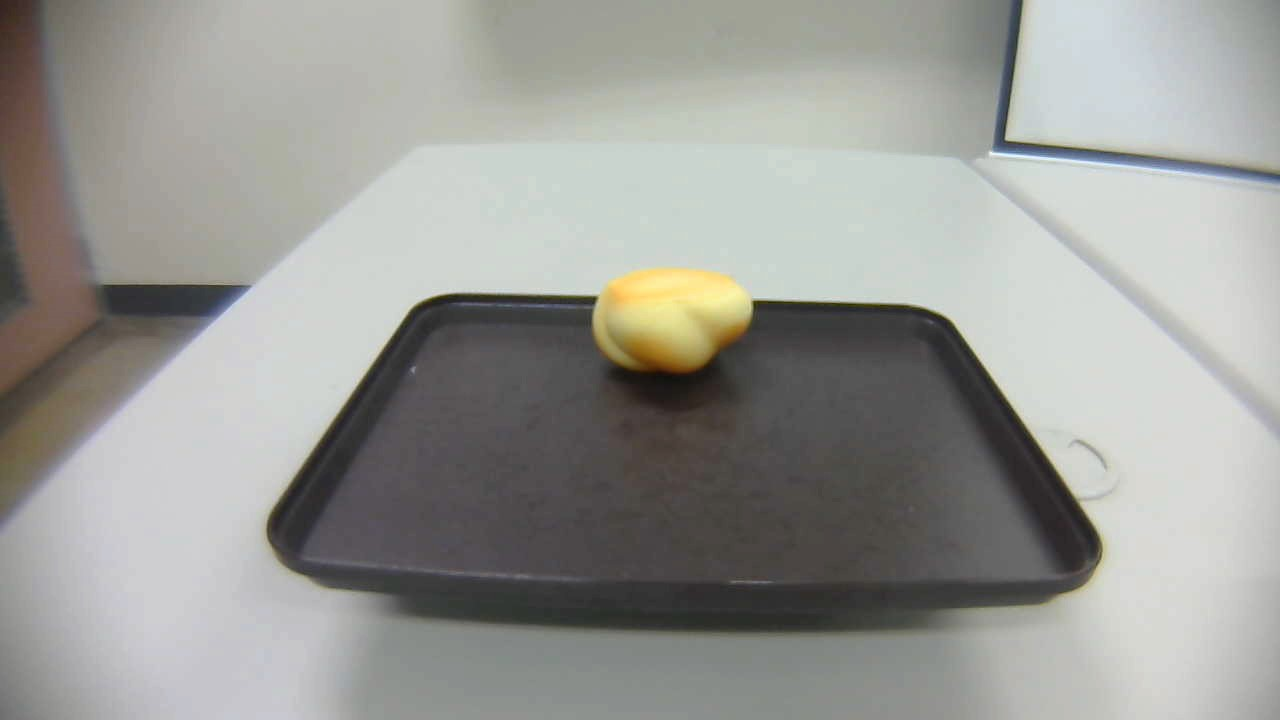twist bread: (590, 267, 756, 374)
